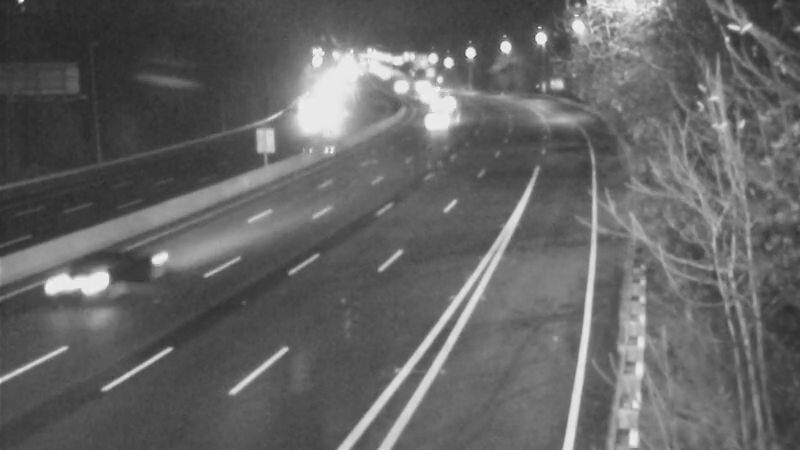vehicle: (43, 243, 123, 323), (379, 62, 429, 112), (397, 62, 447, 112), (404, 70, 454, 120), (421, 80, 471, 130), (416, 97, 466, 147), (283, 98, 333, 148)
